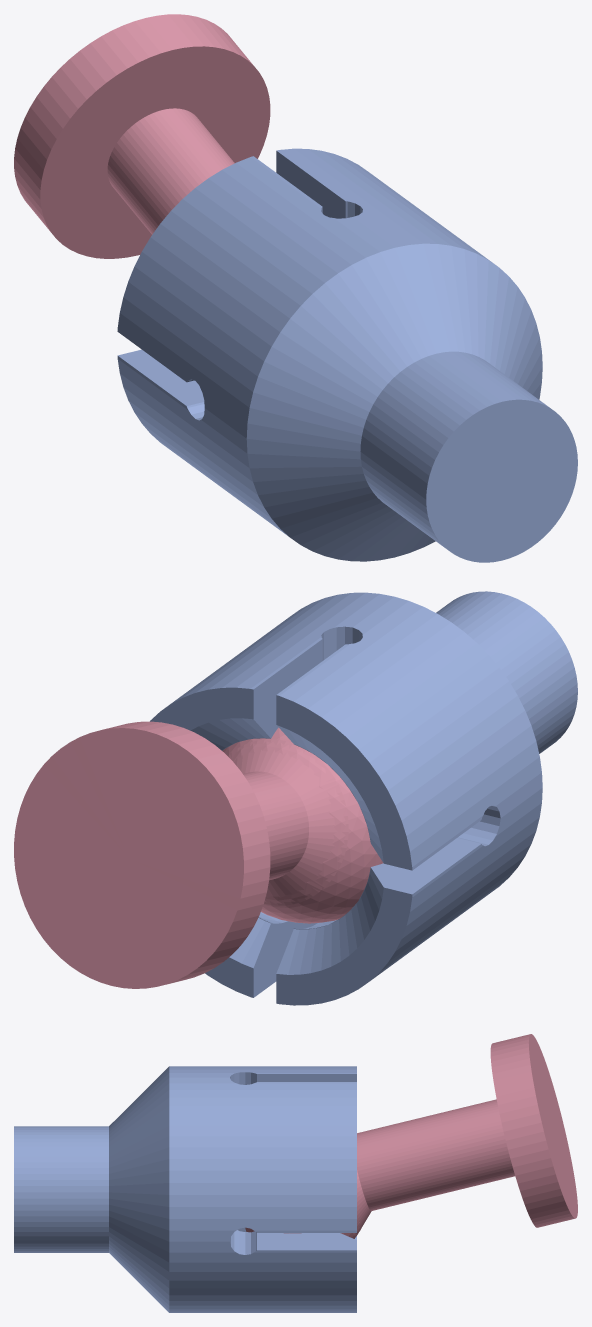
File: ball_socket_joint_demo.glb
3 views of the same model, one above another, from view 1: azimuth 30°, elevation 25°; view 2: azimuth 150°, elevation 25°; view 3: azimuth 270°, elevation 25° (orthographic). The views are drawn at different scales.
Visible parts, largest first — view 1: socket_cup, ball_stud; view 2: socket_cup, ball_stud; view 3: socket_cup, ball_stud.
Boxes of the visible parts, left/top/right/bottom form: socket_cup: left=117, top=148, right=577, bottom=562; ball_stud: left=14, top=14, right=270, bottom=258; socket_cup: left=150, top=591, right=577, bottom=1005; ball_stud: left=14, top=721, right=383, bottom=988; socket_cup: left=14, top=1066, right=356, bottom=1312; ball_stud: left=245, top=1034, right=577, bottom=1238.
Bounding box in the file's own units: 15.6 × 18.01 × 35.62.
